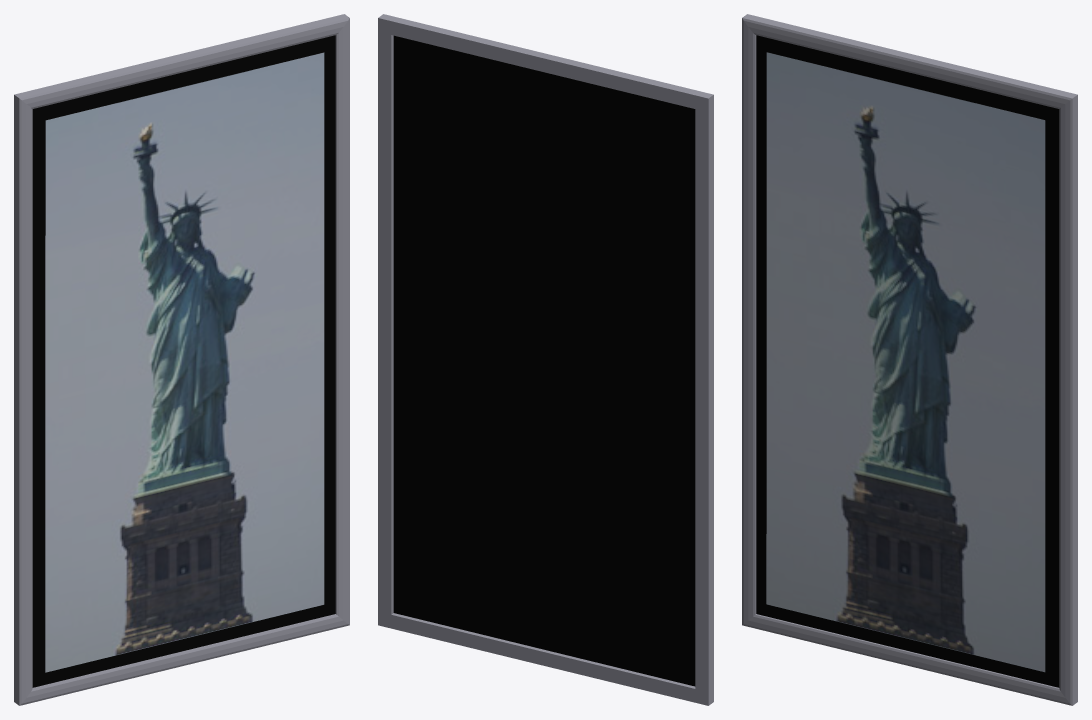
Rendered from StatueOfLibertyFrame.obj.
The picture shows the model from 3 angles, left to right: view 1: azimuth 30°, elevation 25°; view 2: azimuth 150°, elevation 25°; view 3: azimuth 330°, elevation 25°; orthographic projection.
Parts seen in each view (by area): view 1: Photo_Cube_Material_StatueOfLiberty, MetalFrame_Cylinder_Aluminium.010, Frame_Black_Material.012; view 2: Frame_Black_Material.012, MetalFrame_Cylinder_Aluminium.010; view 3: Photo_Cube_Material_StatueOfLiberty, MetalFrame_Cylinder_Aluminium.010, Frame_Black_Material.012.
Boxes of the visible parts, x1,y1,x2,y2 form: Photo_Cube_Material_StatueOfLiberty: [45, 52, 324, 672]; MetalFrame_Cylinder_Aluminium.010: [14, 14, 349, 705]; Frame_Black_Material.012: [32, 35, 335, 687]; Frame_Black_Material.012: [393, 35, 695, 686]; MetalFrame_Cylinder_Aluminium.010: [378, 14, 713, 705]; Photo_Cube_Material_StatueOfLiberty: [766, 52, 1045, 672]; MetalFrame_Cylinder_Aluminium.010: [742, 14, 1077, 705]; Frame_Black_Material.012: [756, 35, 1059, 687].
Bounding box in the file's own units: 50.1 × 88.01 × 1.6.
3 materials, 1 textured.
